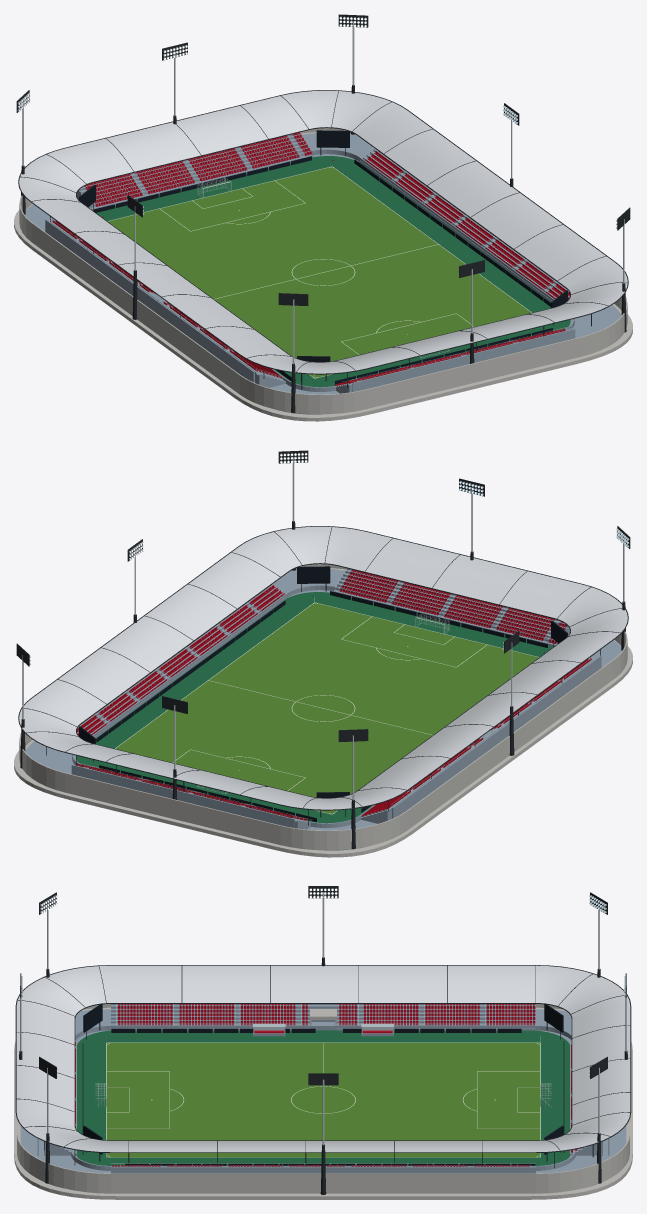
File: psobr-stadium.glb
3 renders of one model, top to bottom at view 1: azimuth 30°, elevation 25°; view 2: azimuth 150°, elevation 25°; view 3: azimuth 270°, elevation 25°, orthographic.
Visible parts, largest first — view 1: Gramado 60 × 96, Cobertura clara, Concreto exterior, Concreto azul-cinza, Assentos vermelhos, Área verde periférica, Estrutura grafite (×2), Telões e publicidade, Alumínio, Linhas e traves; view 2: Gramado 60 × 96, Cobertura clara, Concreto exterior, Concreto azul-cinza, Assentos vermelhos, Área verde periférica, Estrutura grafite (×2), Telões e publicidade, Alumínio, Linhas e traves; view 3: Gramado 60 × 96, Cobertura clara, Concreto exterior, Concreto azul-cinza, Área verde periférica, Assentos vermelhos, Estrutura grafite (×2), Telões e publicidade, Alumínio, Linhas e traves.
Boxes of the visible parts, x1,y1,x2,y2 form: Gramado 60 × 96: [108, 167, 531, 378]; Cobertura clara: [19, 90, 627, 373]; Concreto exterior: [14, 128, 632, 421]; Concreto azul-cinza: [25, 133, 621, 414]; Assentos vermelhos: [52, 132, 570, 385]; Área verde periférica: [96, 156, 570, 387]; Estrutura grafite (×2): [16, 14, 630, 413]; Telões e publicidade: [79, 130, 567, 384]; Alumínio: [17, 16, 624, 381]; Linhas e traves: [101, 160, 531, 378]; Gramado 60 × 96: [115, 603, 538, 814]; Cobertura clara: [19, 526, 627, 809]; Concreto exterior: [14, 564, 632, 857]; Concreto azul-cinza: [25, 568, 621, 850]; Assentos vermelhos: [76, 570, 591, 820]; Área verde periférica: [76, 592, 552, 823]; Estrutura grafite (×2): [16, 450, 630, 849]; Telões e publicidade: [79, 566, 567, 821]; Alumínio: [22, 452, 629, 821]; Linhas e traves: [115, 596, 545, 814]; Gramado 60 × 96: [107, 1043, 539, 1157]; Cobertura clara: [16, 965, 630, 1152]; Concreto exterior: [14, 1004, 632, 1199]; Concreto azul-cinza: [20, 1004, 626, 1187]; Área verde periférica: [77, 1030, 569, 1165]; Assentos vermelhos: [75, 1004, 580, 1166]; Estrutura grafite (×2): [15, 886, 631, 1194]; Telões e publicidade: [82, 1003, 564, 1165]; Alumínio: [20, 888, 626, 1166]; Linhas e traves: [106, 1036, 540, 1157].
Size of the model in its own units: 99.2 by 30.65 by 137.
